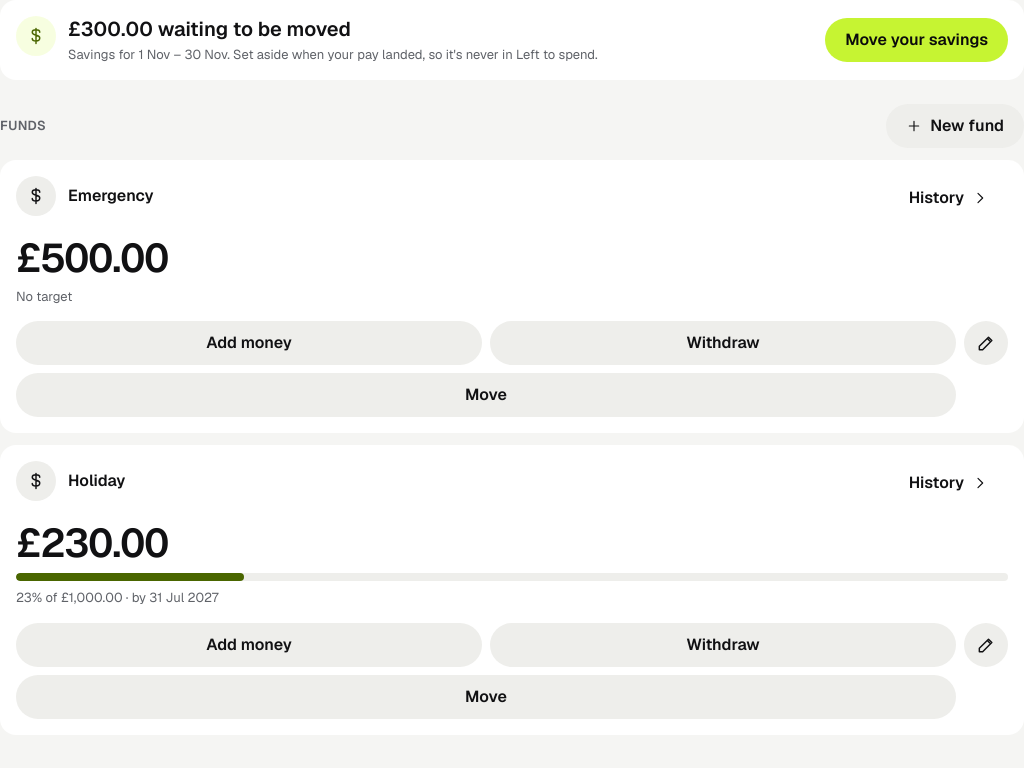
MoveSavingsSheet › shows how much over when the amounts are more than the savings
Click the button "Move your savings" at (917, 40), box [825,18,1008,62]
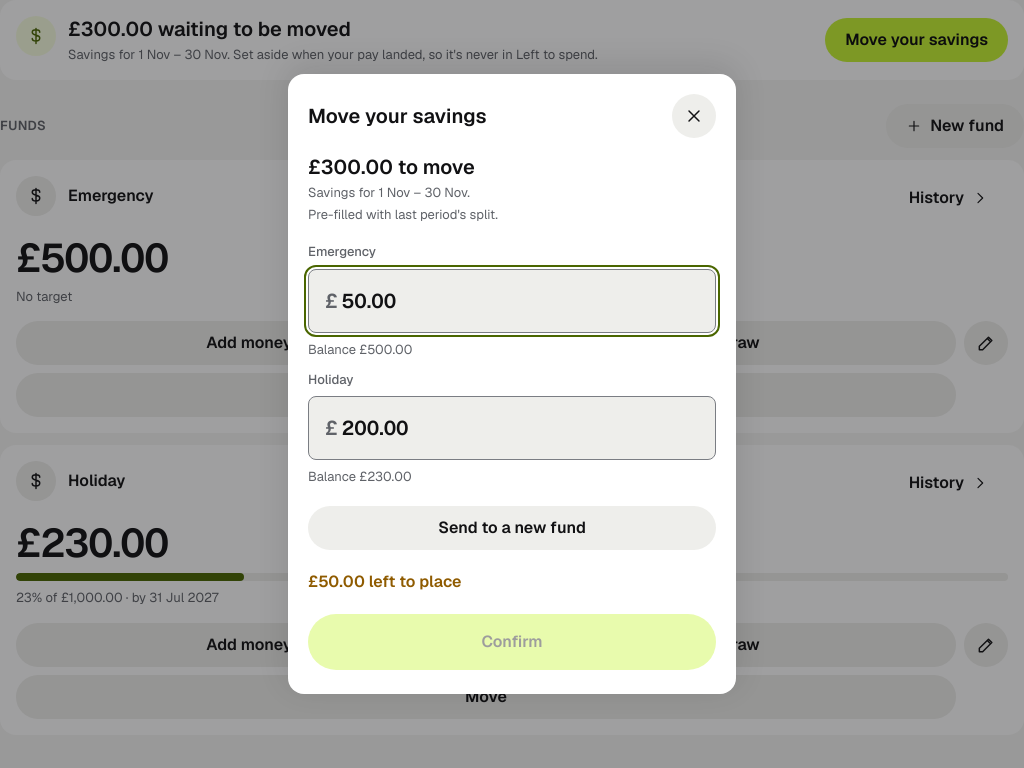
Replace the text in the field labelled "Emergency" with "150" at (520, 301), box [342,288,699,314]
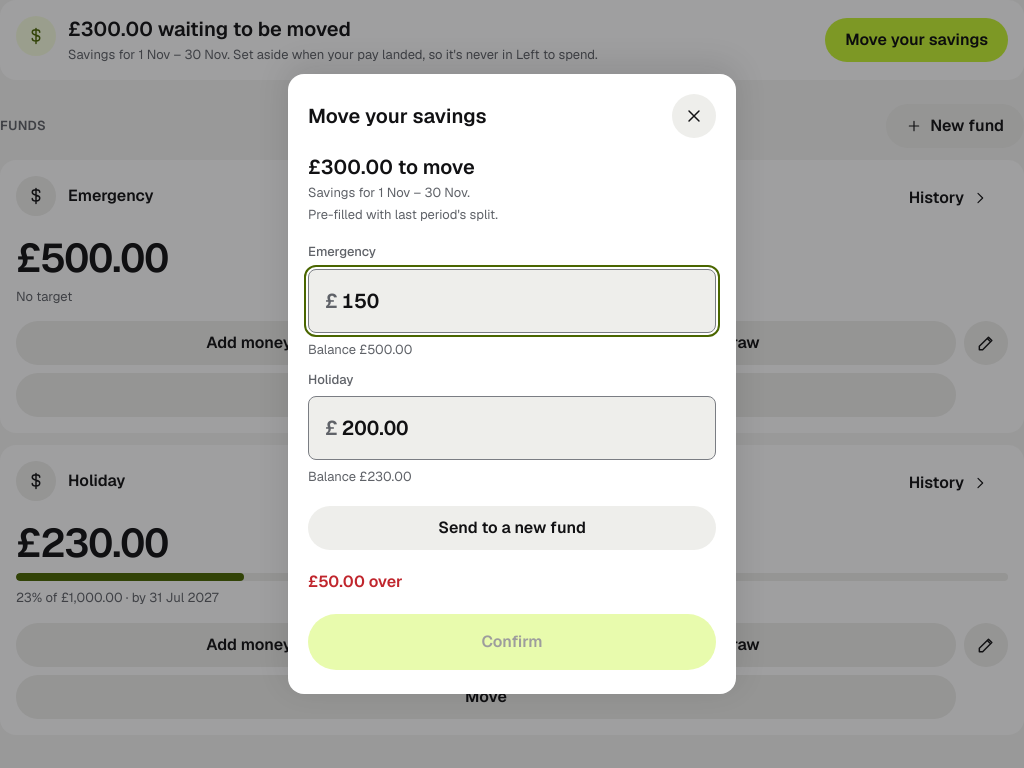
Expected: the button "Confirm" is disabled, [308,614,716,670]
Expected: the message reads "£50.00 over", [308,571,403,592]
